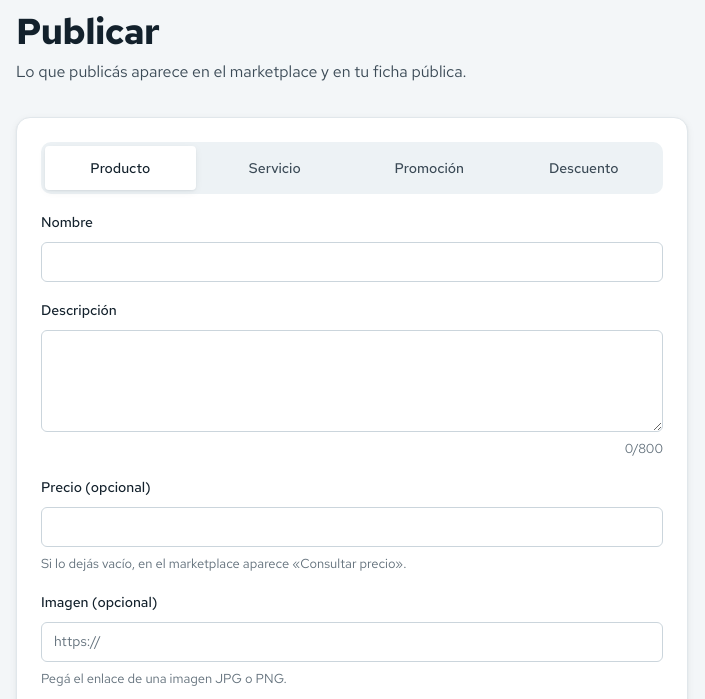
Test: the publication form › asks a discount for its percentage and condition
Step 1. Click the radio button labelled "Descuento" → (584, 168), box x1=549 y1=159 x2=618 y2=177
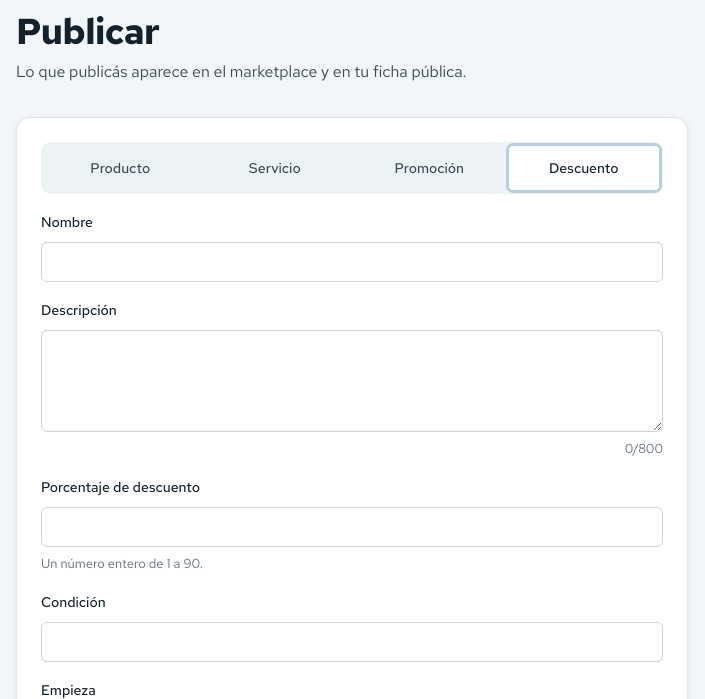
Check: the field labelled "Porcentaje de descuento" is shown, box x1=41 y1=507 x2=663 y2=547
Check: the field labelled "Condición" is shown, box x1=41 y1=622 x2=663 y2=662
Check: the label labelled "Precio (opcional)" is gone
